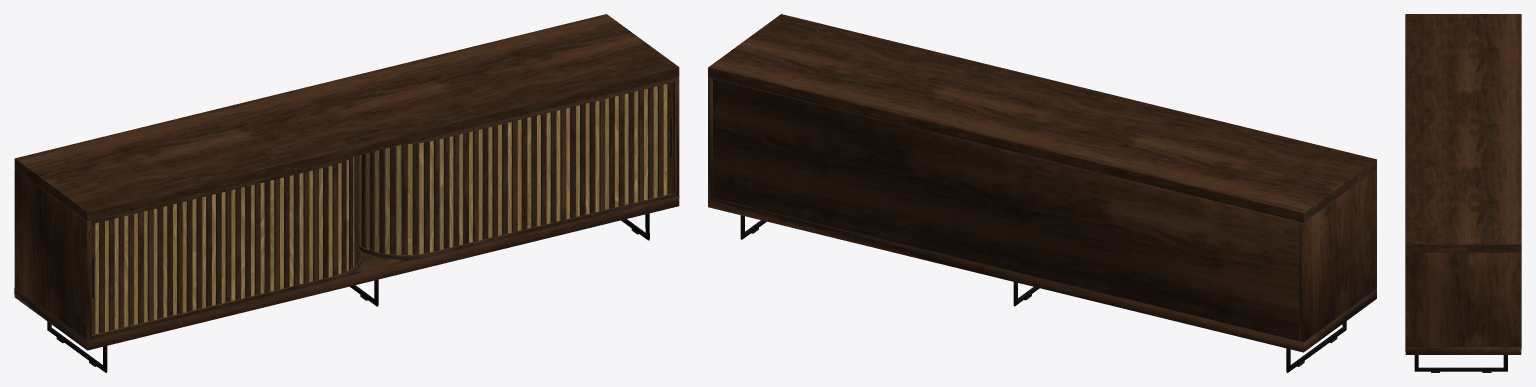
Rendered from modern_wooden_cabinet.glb.
3 views of the same model, side by side, from view 1: azimuth 30°, elevation 25°; view 2: azimuth 150°, elevation 25°; view 3: azimuth 270°, elevation 25° (orthographic). The views are drawn at different scales.
Visible parts, largest first — view 1: modern_wooden_cabinet_body, modern_wooden_cabinet_door_r, modern_wooden_cabinet_door_l; view 2: modern_wooden_cabinet_body; view 3: modern_wooden_cabinet_body.
Boxes of the visible parts, bbox=[...] form: modern_wooden_cabinet_body: bbox=[14, 14, 679, 372]; modern_wooden_cabinet_door_r: bbox=[359, 82, 673, 254]; modern_wooden_cabinet_door_l: bbox=[91, 155, 359, 334]; modern_wooden_cabinet_body: bbox=[708, 14, 1376, 372]; modern_wooden_cabinet_body: bbox=[1405, 14, 1521, 372].
Bounding box in the file's own units: 2.44 × 0.6801 × 0.5201.
Materials: 1 (1 with a texture image).
